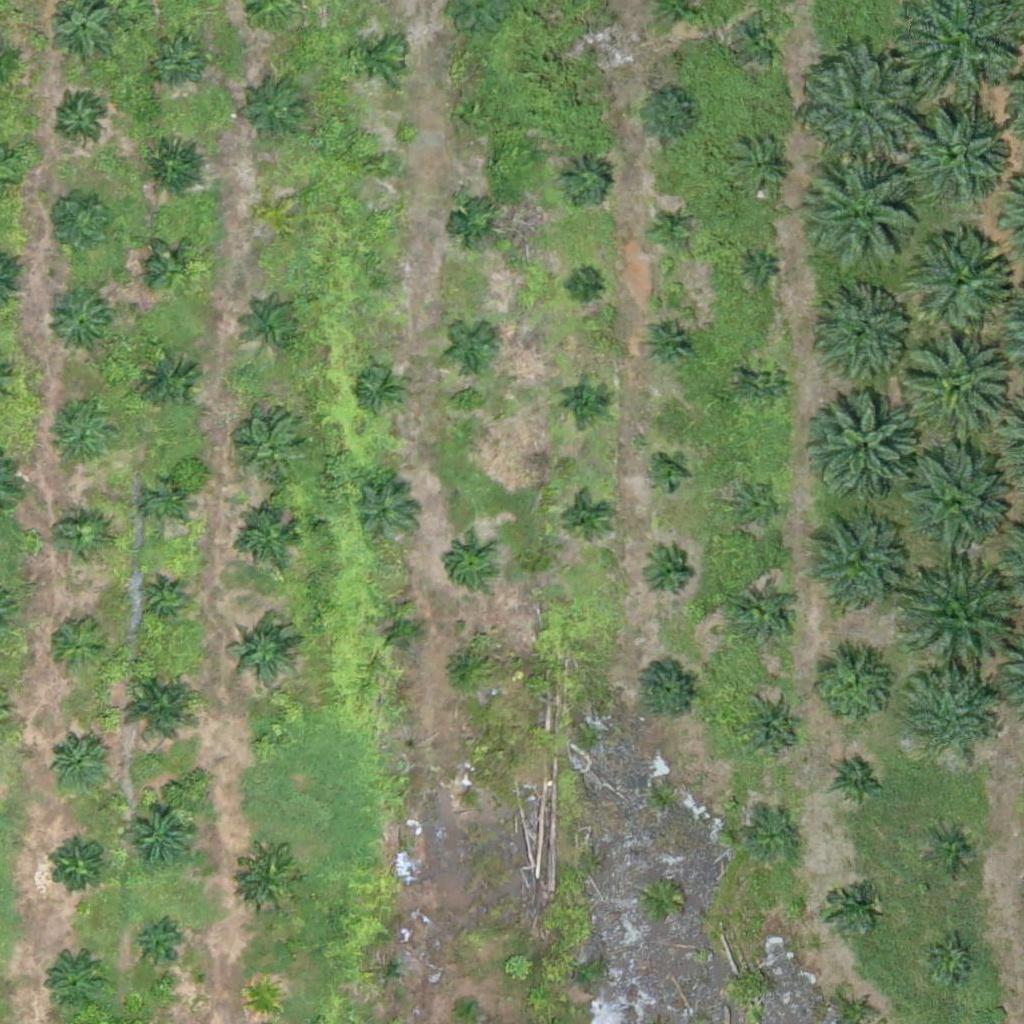Kelapa_Sawit: (904, 565, 1016, 679), (900, 449, 1012, 563), (903, 332, 1015, 446), (803, 52, 915, 165), (812, 158, 924, 271), (905, 102, 1005, 203), (911, 230, 1011, 331), (816, 396, 916, 496), (804, 522, 904, 622), (806, 645, 893, 733), (821, 292, 908, 380), (906, 672, 993, 760), (118, 665, 205, 753), (226, 616, 301, 692), (40, 186, 115, 262), (121, 796, 196, 871), (44, 614, 107, 677), (49, 407, 112, 470), (47, 731, 110, 794), (741, 697, 804, 760), (355, 480, 418, 543), (636, 656, 699, 719), (238, 848, 301, 911), (243, 79, 306, 142), (142, 134, 205, 197), (636, 84, 699, 147), (48, 291, 110, 354), (41, 951, 103, 1014), (45, 834, 107, 897), (735, 587, 797, 650), (138, 351, 200, 414), (238, 508, 300, 571), (240, 418, 303, 480), (246, 296, 308, 359), (829, 749, 891, 812), (558, 493, 608, 544), (642, 547, 692, 598), (735, 141, 785, 192), (351, 29, 401, 80), (558, 154, 608, 205), (376, 606, 426, 657), (438, 641, 488, 692), (56, 513, 106, 563), (128, 922, 178, 972), (748, 816, 798, 866), (824, 880, 874, 930), (740, 359, 790, 409), (560, 376, 610, 426), (448, 321, 498, 371), (148, 243, 198, 293), (355, 364, 405, 414), (443, 539, 493, 589), (56, 95, 106, 145), (150, 36, 200, 86), (450, 201, 500, 251), (926, 936, 976, 986), (927, 827, 977, 877), (735, 14, 785, 64), (646, 204, 696, 254), (729, 478, 779, 528), (645, 318, 695, 368), (137, 574, 186, 625), (458, 97, 496, 135), (649, 453, 687, 491), (244, 979, 282, 1017), (147, 483, 184, 521), (371, 953, 408, 991), (581, 30, 606, 55), (747, 259, 772, 284), (570, 273, 595, 298), (369, 266, 394, 291), (369, 150, 394, 175), (264, 204, 289, 229), (456, 993, 481, 1018), (453, 784, 478, 809), (254, 731, 279, 756)
